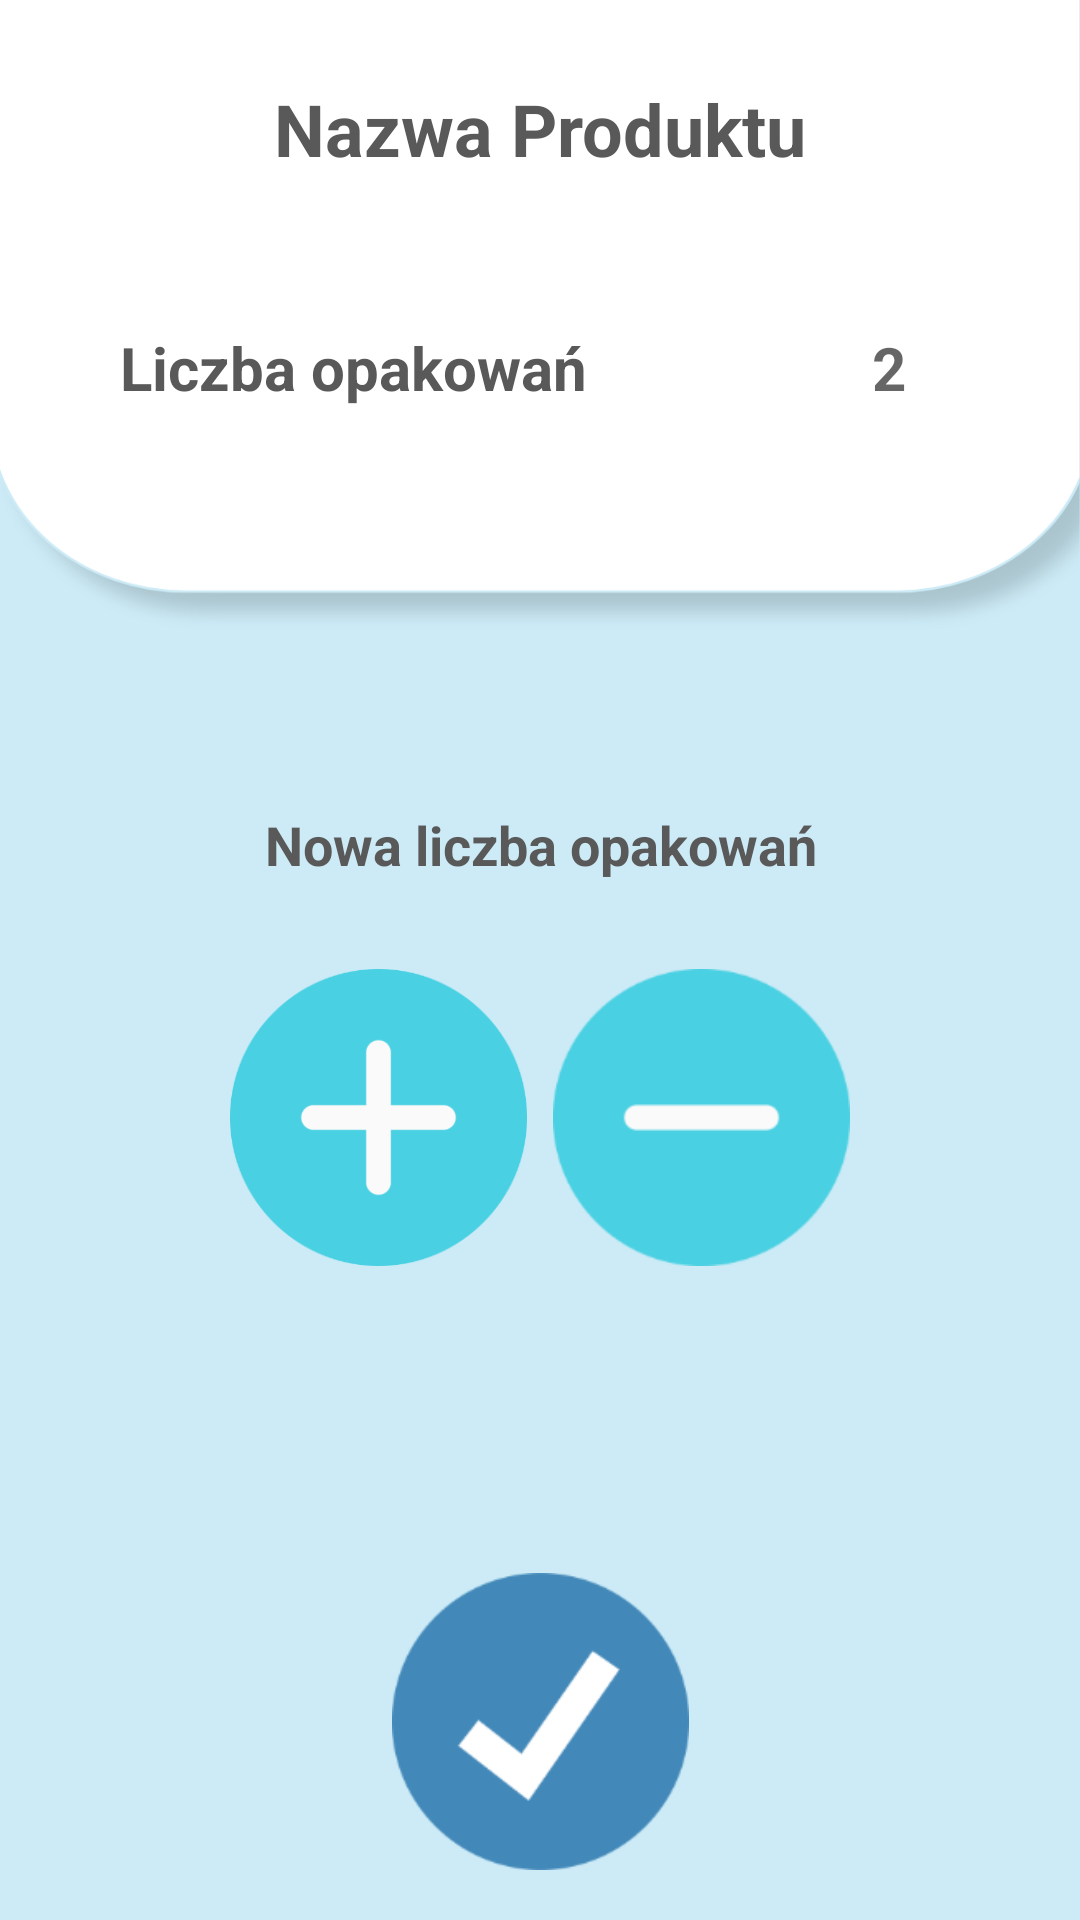

Icons on this 1080x1920 Android screen, each with the point to tap as (x,y):
check: (540,1721)
less: (701,1117)
plus: (378,1117)
